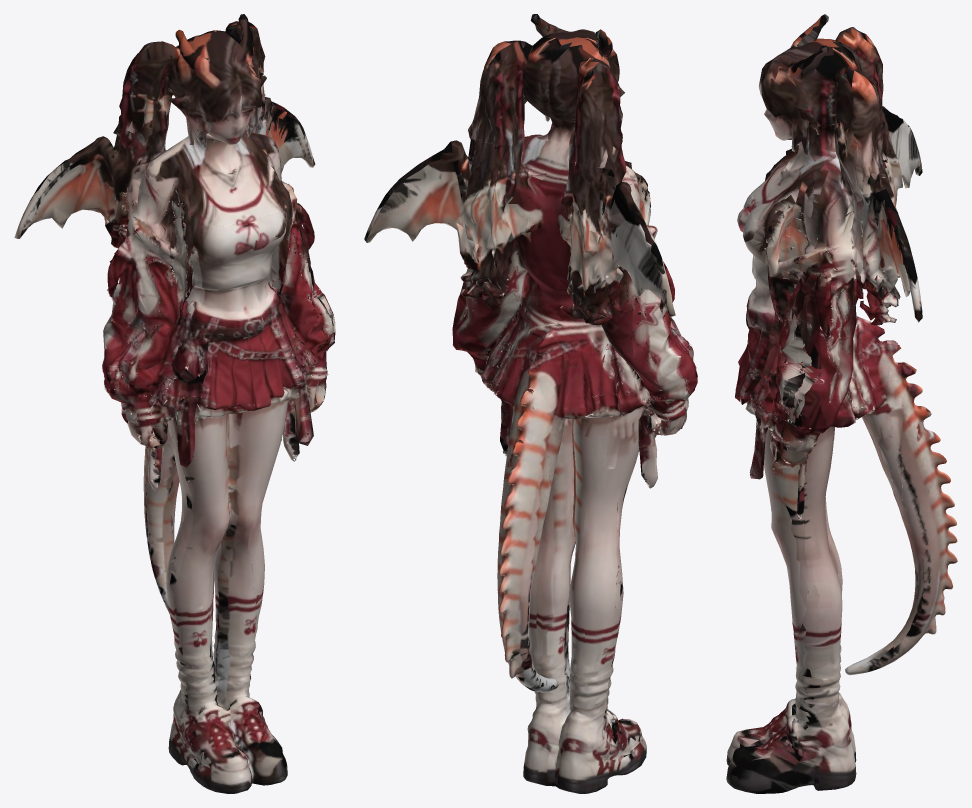
Rendered from dragongirl_style1.hi.glb.
3 views of the same model, side by side, from view 1: azimuth 30°, elevation 25°; view 2: azimuth 150°, elevation 25°; view 3: azimuth 270°, elevation 25° (orthographic). The views are drawn at different scales.
Parts seen in each view (by area): view 1: Body, Head, ArmL, LegR, LegL, WingL, ArmR, FinL, WingR, Tail3, Tail2, FinR; view 2: Head, LegL, WingR, Body, WingL, LegR, ArmL, Tail1, ArmR, Tail2, Tail3; view 3: Head, Body, LegR, ArmR, WingR, Tail1, Tail2, FinR, Tail3, WingL, LegL.
Part boxes in pixels (left/top/right/bottom): Body: left=121, top=197, right=327, bottom=793; Head: left=102, top=14, right=335, bottom=401; ArmL: left=102, top=179, right=206, bottom=573; LegR: left=213, top=460, right=270, bottom=752; LegL: left=166, top=418, right=238, bottom=779; WingL: left=14, top=127, right=166, bottom=262; ArmR: left=271, top=165, right=335, bottom=455; FinL: left=120, top=85, right=178, bottom=180; WingR: left=258, top=97, right=315, bottom=173; Tail3: left=144, top=501, right=174, bottom=603; Tail2: left=143, top=446, right=179, bottom=521; FinR: left=245, top=56, right=278, bottom=149; Head: left=452, top=14, right=697, bottom=398; LegL: left=529, top=424, right=633, bottom=793; WingR: left=364, top=131, right=528, bottom=355; Body: left=473, top=189, right=688, bottom=771; WingL: left=560, top=160, right=675, bottom=367; LegR: left=523, top=424, right=575, bottom=786; ArmL: left=586, top=179, right=696, bottom=584; Tail1: left=500, top=401, right=549, bottom=535; ArmR: left=453, top=167, right=564, bottom=452; Tail2: left=497, top=515, right=541, bottom=604; Tail3: left=497, top=586, right=537, bottom=688; Head: left=740, top=14, right=914, bottom=428; Body: left=726, top=192, right=916, bottom=793; LegR: left=761, top=430, right=901, bottom=793; ArmR: left=740, top=210, right=873, bottom=595; WingR: left=862, top=159, right=922, bottom=357; Tail1: left=902, top=372, right=946, bottom=508; Tail2: left=902, top=471, right=956, bottom=571; FinR: left=813, top=116, right=863, bottom=204; Tail3: left=902, top=536, right=957, bottom=655; WingL: left=882, top=106, right=922, bottom=213; LegL: left=760, top=438, right=896, bottom=762.
Bounding box in the file's own units: 0.7946 × 1.85 × 0.5205.
Materials: 1 (1 with a texture image).
